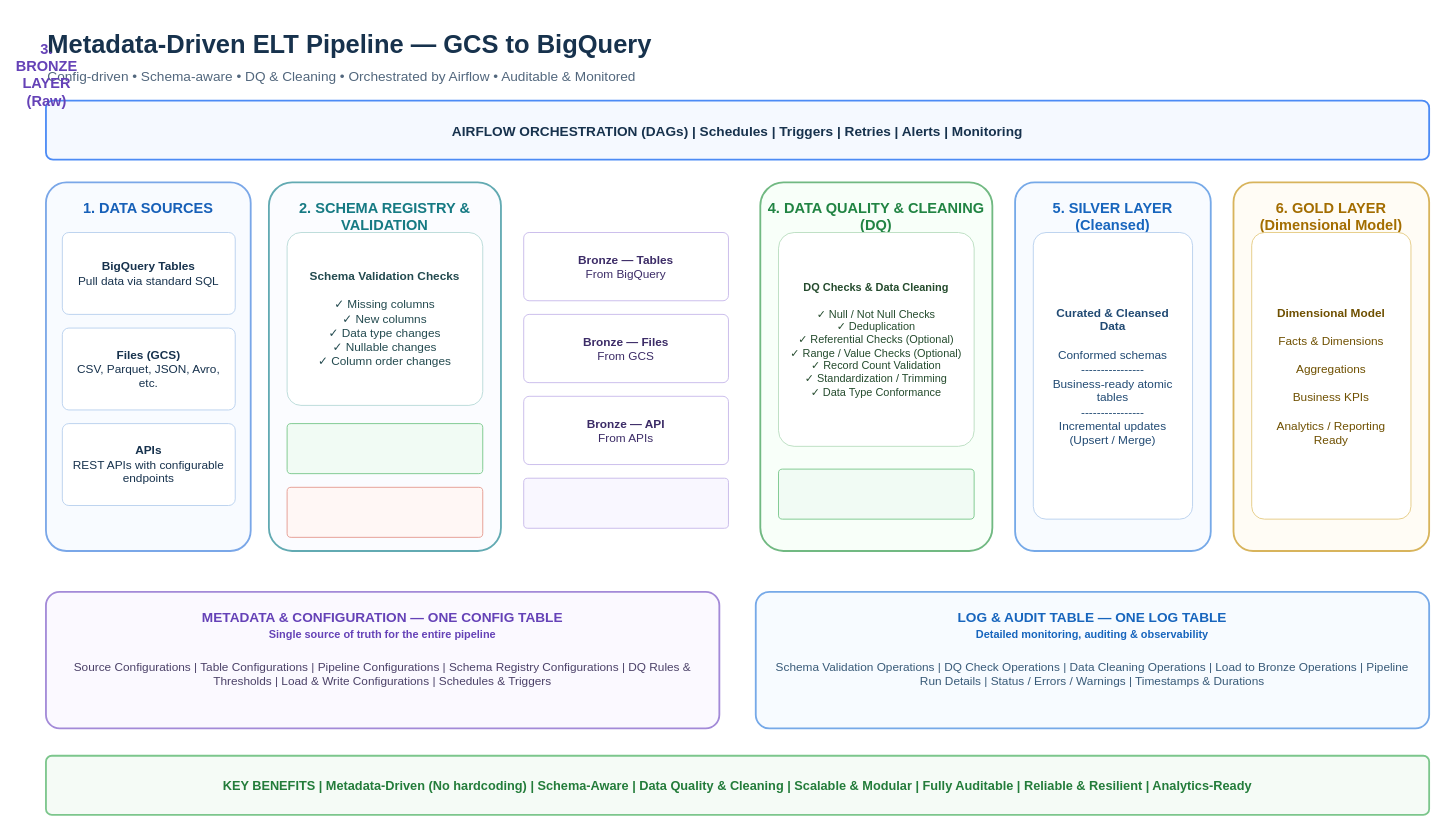
This 1446x832 diagram has some shape labels left out. Each missing label, with the centre of its shape:
QUARANTINE Invalid data/files stored for investigation & remediation: the point at 384,511
Raw data as-is (Immutable & Append Only): the point at 625,502
✓ PASS Cleaned data to Silver: the point at 876,493
✓ PASS Continue to Bronze: the point at 384,448
